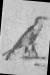G1: (2, 0, 49, 74)
